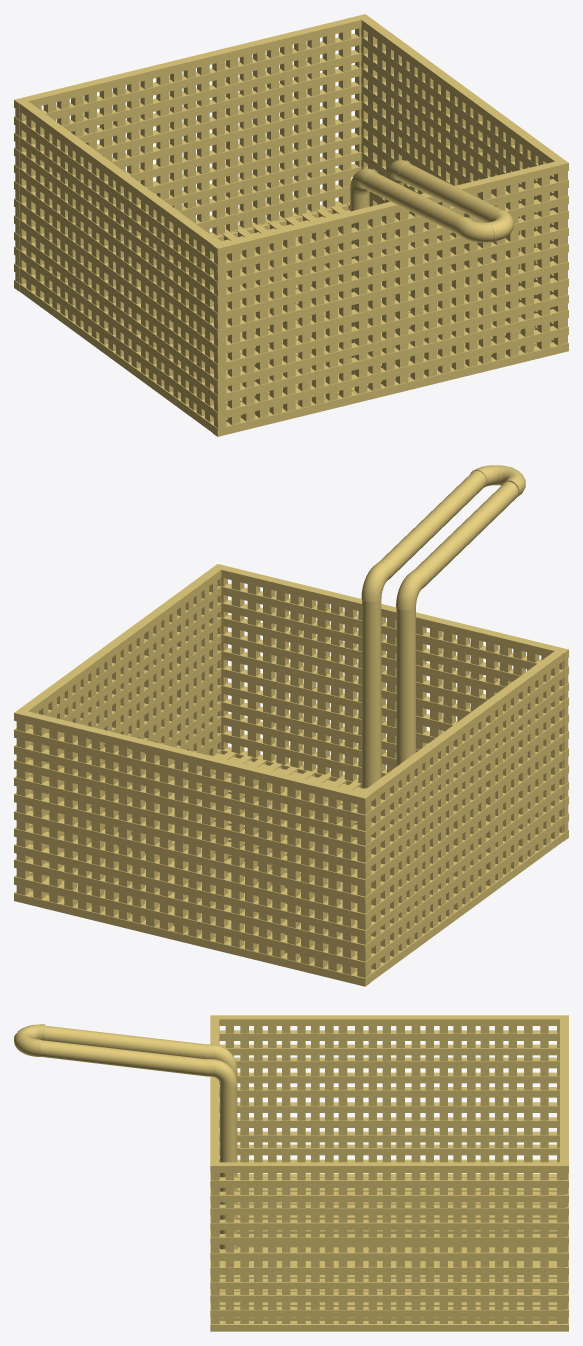
Rendered from ZG_Proxy_FryerBasket.fbx.
3 views of the same model, one above another, from view 1: azimuth 30°, elevation 25°; view 2: azimuth 150°, elevation 25°; view 3: azimuth 270°, elevation 25° (orthographic). The views are drawn at different scales.
Visible parts, largest first — view 1: FryerBasket2; view 2: FryerBasket2; view 3: FryerBasket2.
Boxes of the visible parts, left/top/right/bottom form: FryerBasket2: left=14, top=14, right=568, bottom=436; FryerBasket2: left=14, top=465, right=568, bottom=986; FryerBasket2: left=14, top=1015, right=568, bottom=1331.
Size of the model in its own units: 1202 by 821 by 1867.
